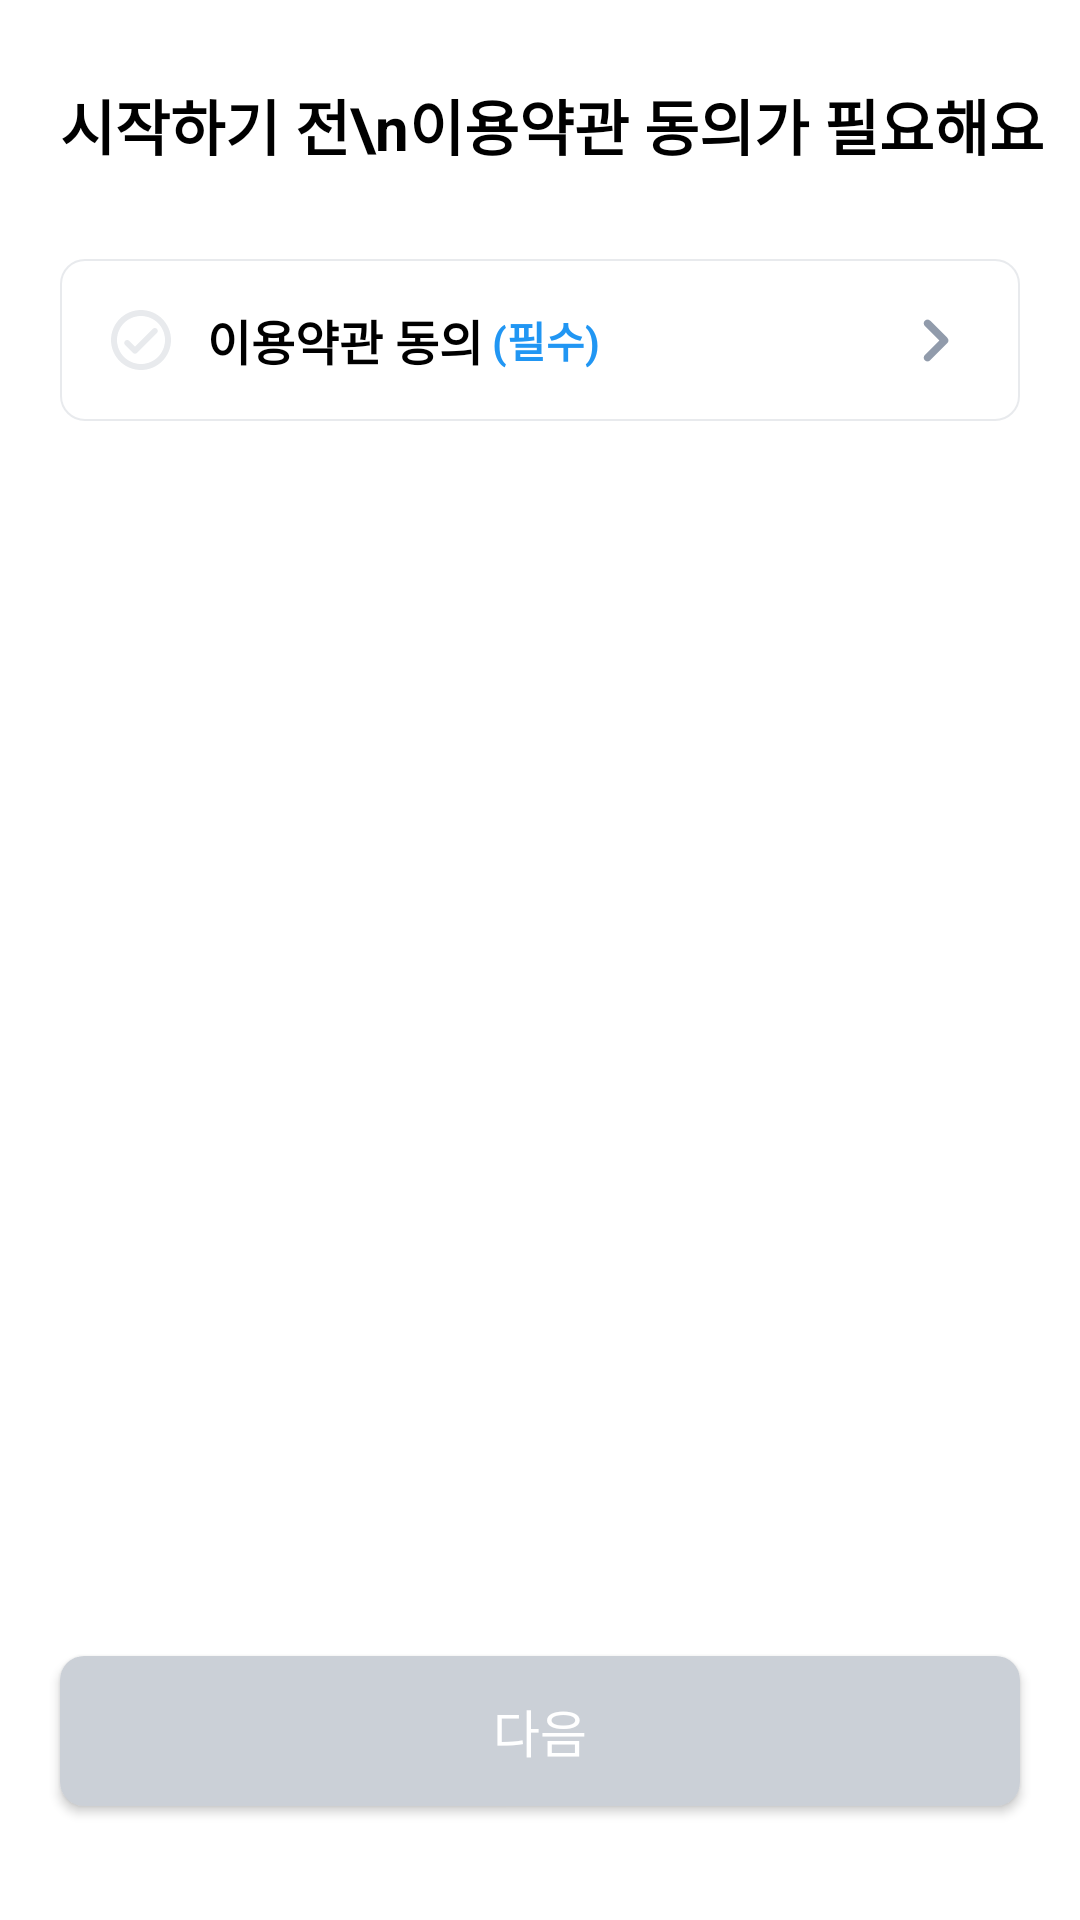

Icon bounding boxes for this 1080 x 1920 phone screenshot, format [x1=x1, y1=y1, x2=x2, y2=y2]:
term next arrow: [x1=923, y1=319, x2=949, y2=362]
